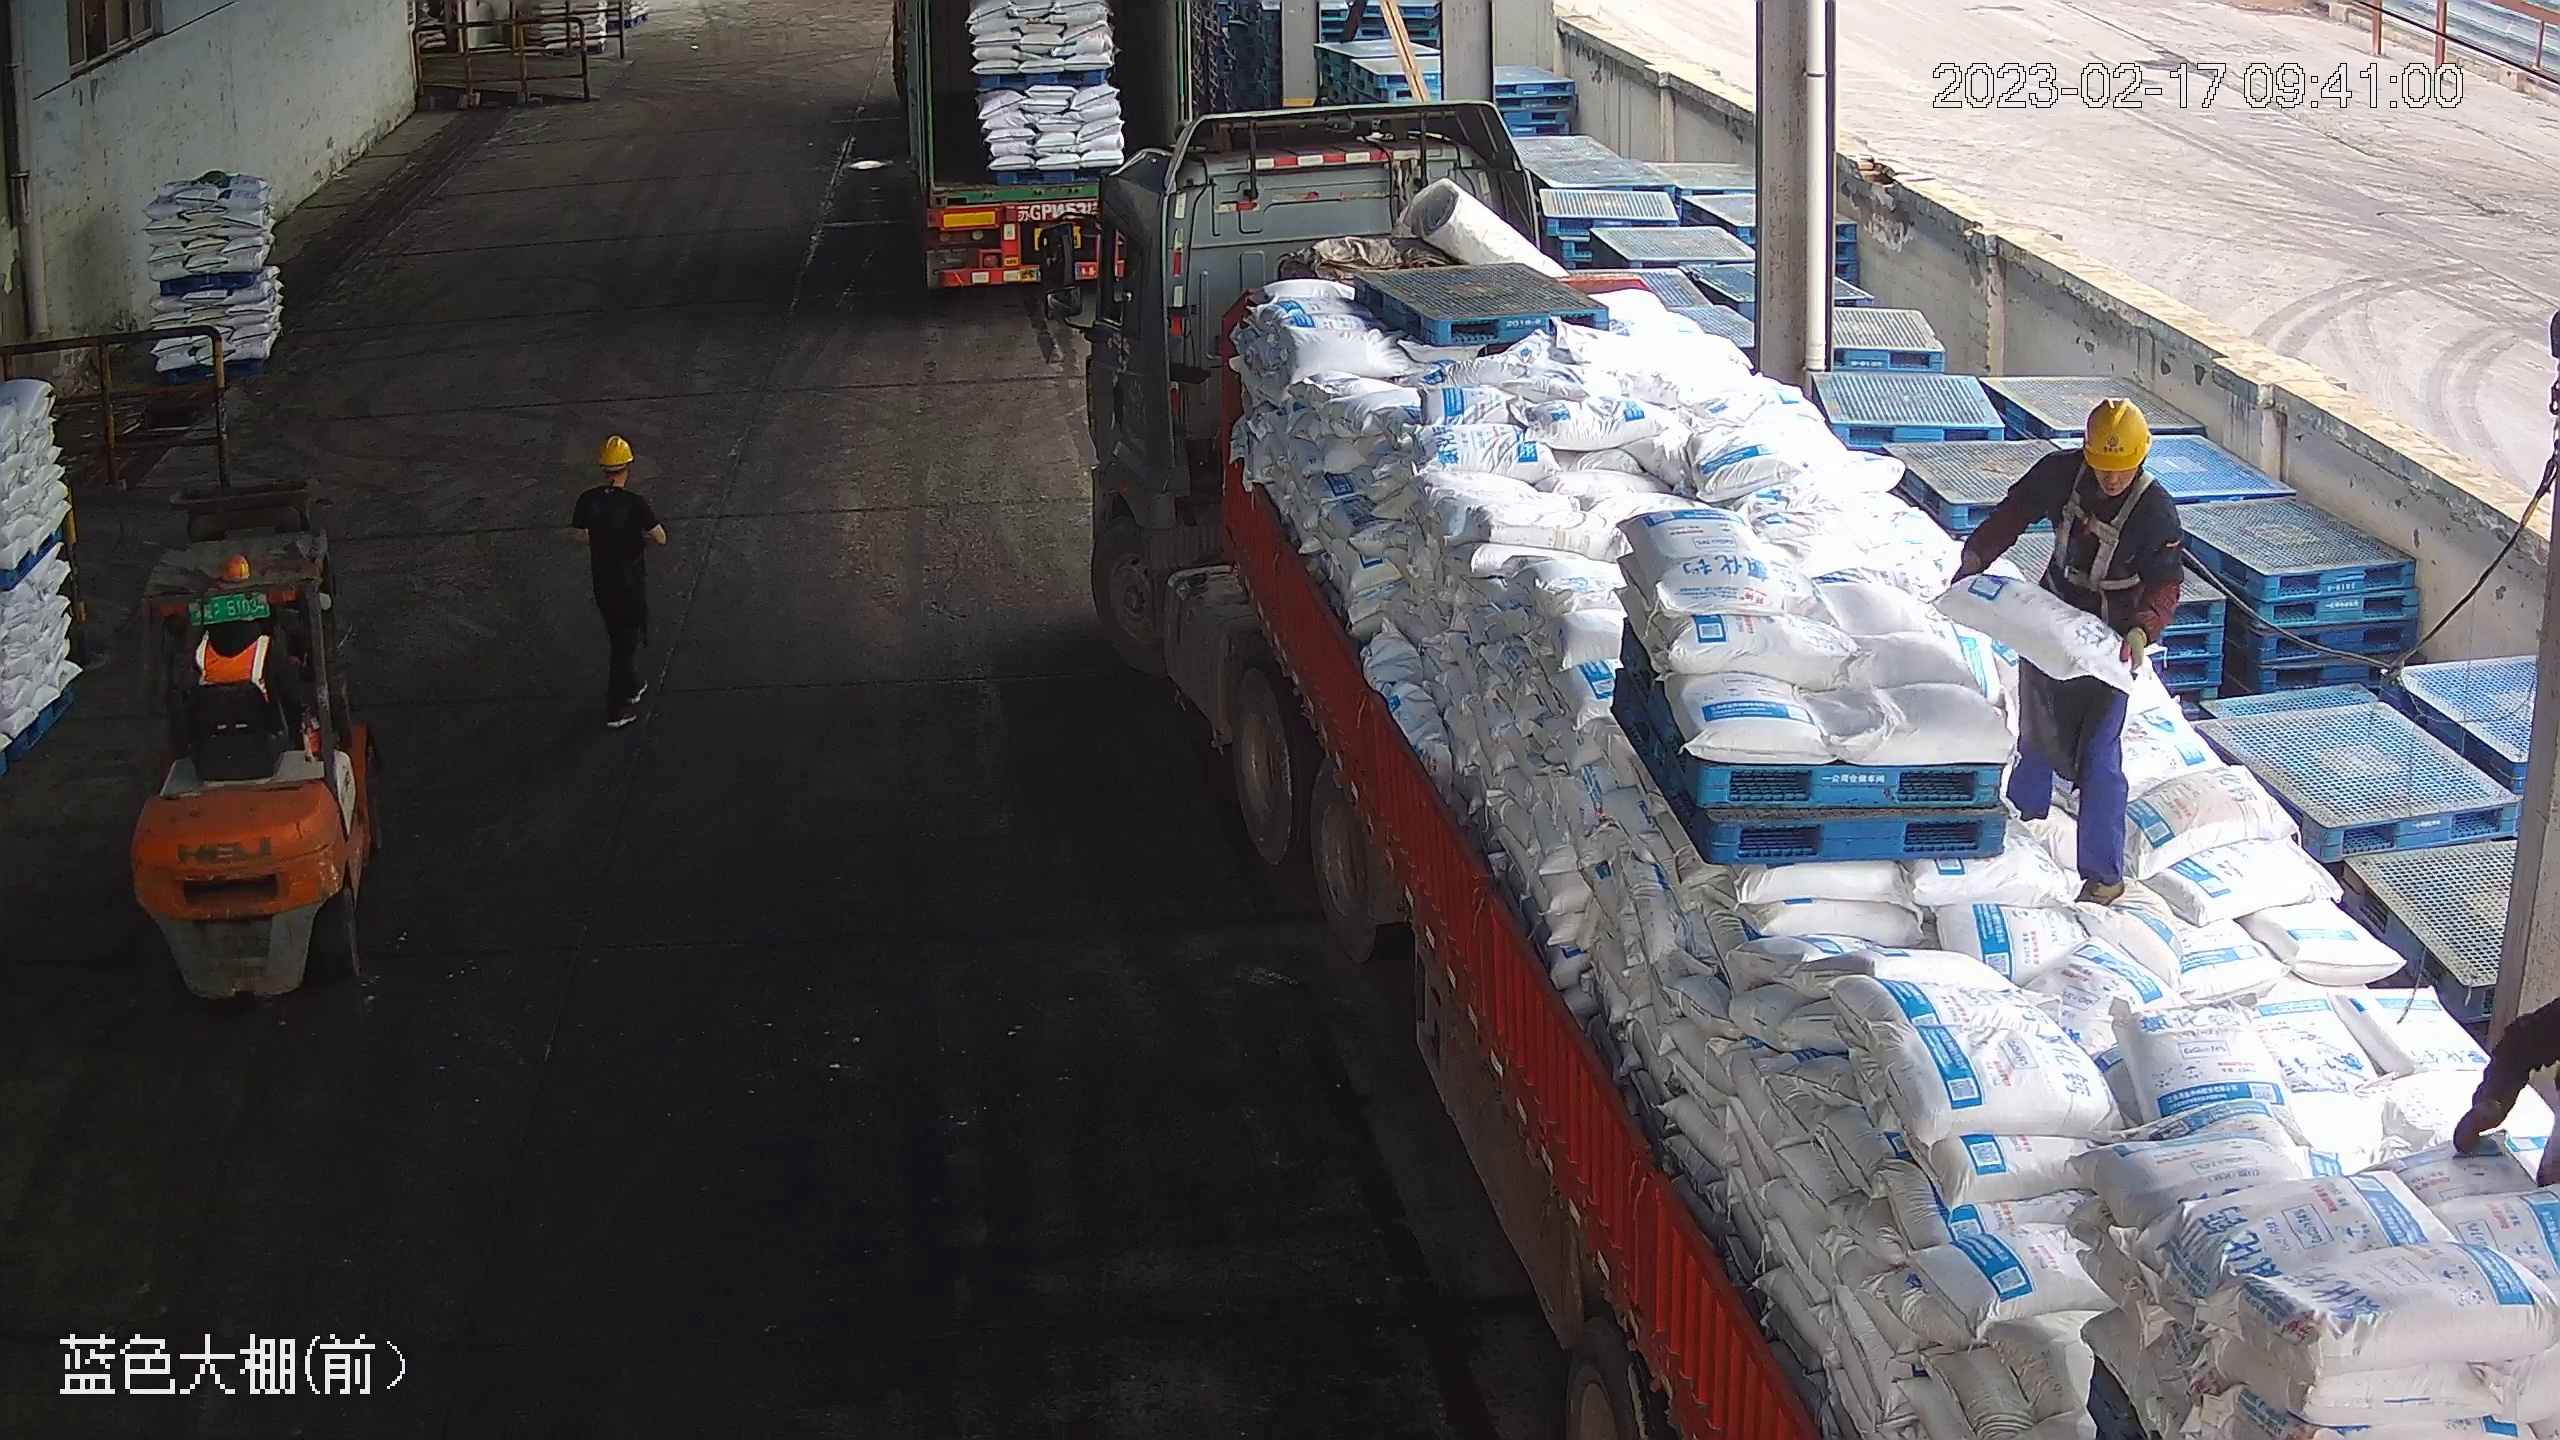belt: (2042, 470, 2167, 597)
head: (2028, 393, 2181, 531), (573, 438, 658, 522)
helmet: (2080, 394, 2152, 471), (597, 436, 634, 466)
people: (1948, 393, 2184, 912), (570, 436, 669, 730)
truck: (1037, 99, 2557, 1440), (888, 3, 1193, 290)
